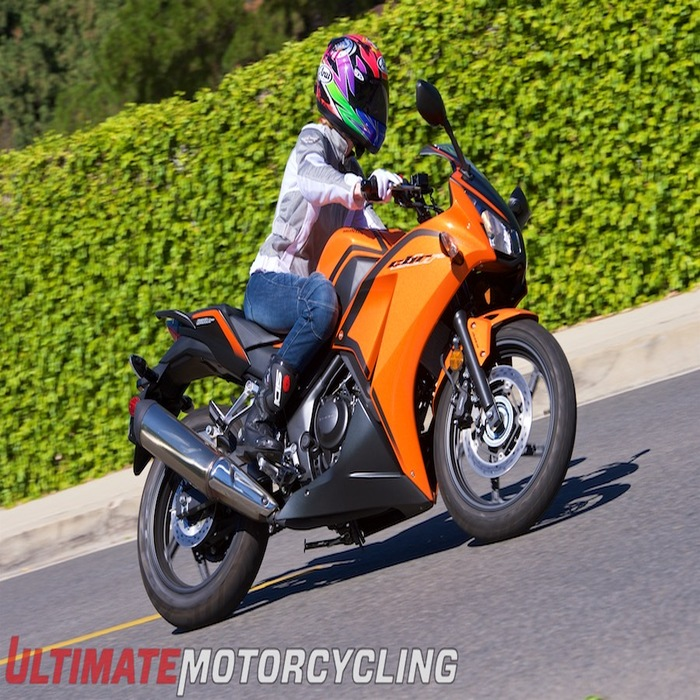h: (315, 31, 391, 158)
